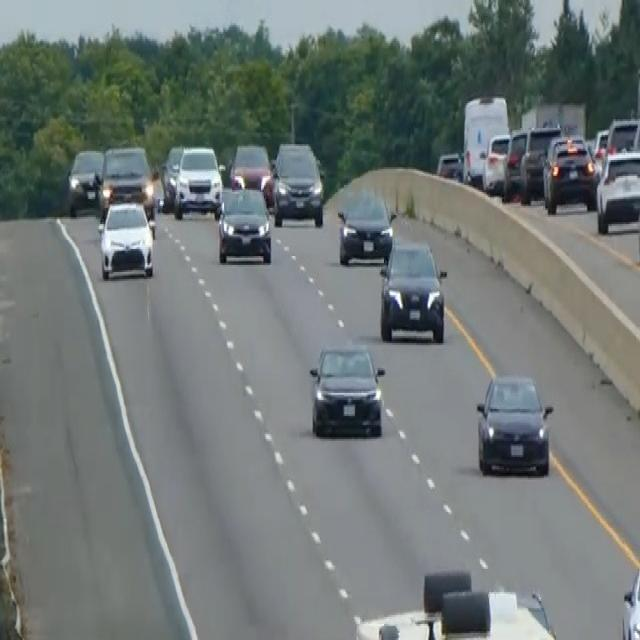bus: (353, 566, 561, 638)
car: (475, 370, 554, 476), (308, 341, 385, 439), (378, 237, 447, 343), (426, 585, 558, 638), (97, 143, 157, 230), (272, 138, 324, 228), (97, 197, 154, 279), (216, 183, 272, 265), (542, 134, 598, 214), (336, 188, 394, 265), (173, 142, 223, 219), (595, 147, 639, 233), (519, 122, 561, 202), (229, 140, 273, 204), (66, 146, 104, 215), (481, 130, 511, 194), (502, 126, 528, 198), (159, 142, 184, 210), (604, 116, 639, 158), (620, 564, 639, 638), (436, 150, 463, 182)
minibus: (460, 90, 510, 186)
